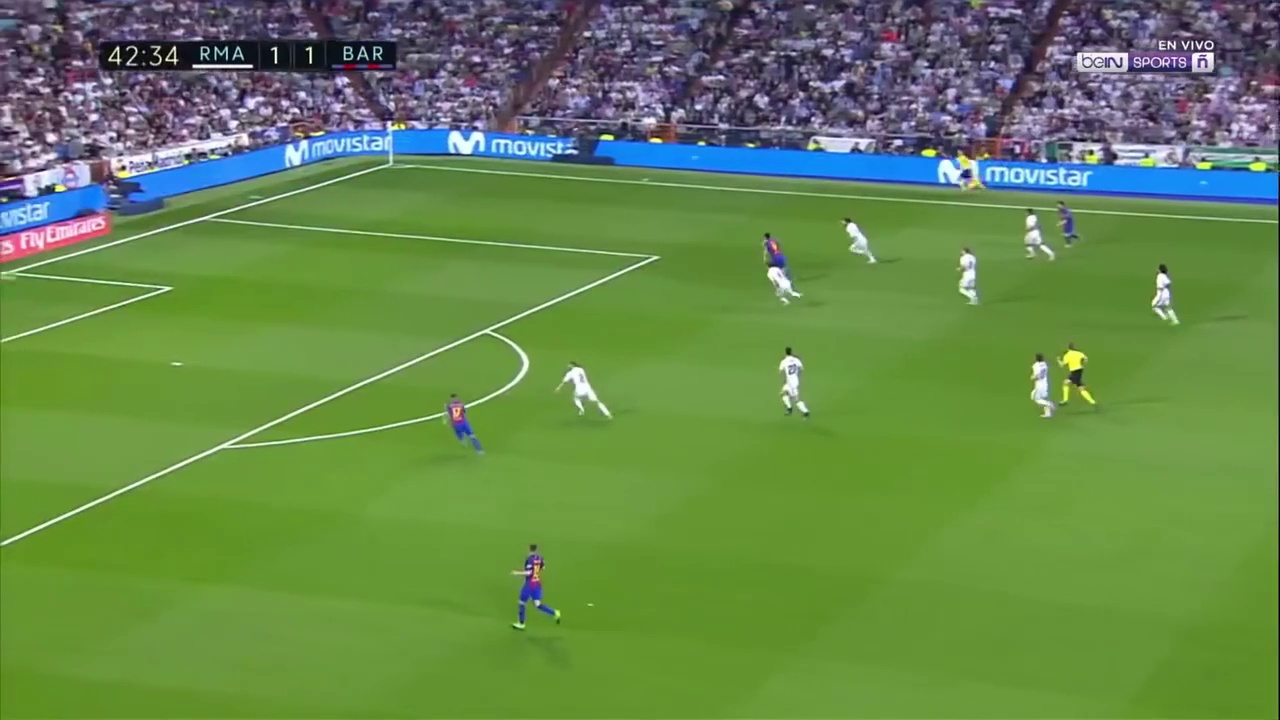player: (509, 542, 562, 633), (555, 360, 614, 418), (1055, 343, 1101, 409), (777, 346, 814, 419), (441, 391, 483, 453), (1021, 207, 1058, 263), (839, 214, 879, 265), (1028, 352, 1058, 419), (1151, 264, 1182, 328), (956, 246, 984, 309), (764, 262, 804, 306), (1055, 200, 1083, 249), (761, 229, 790, 272)
